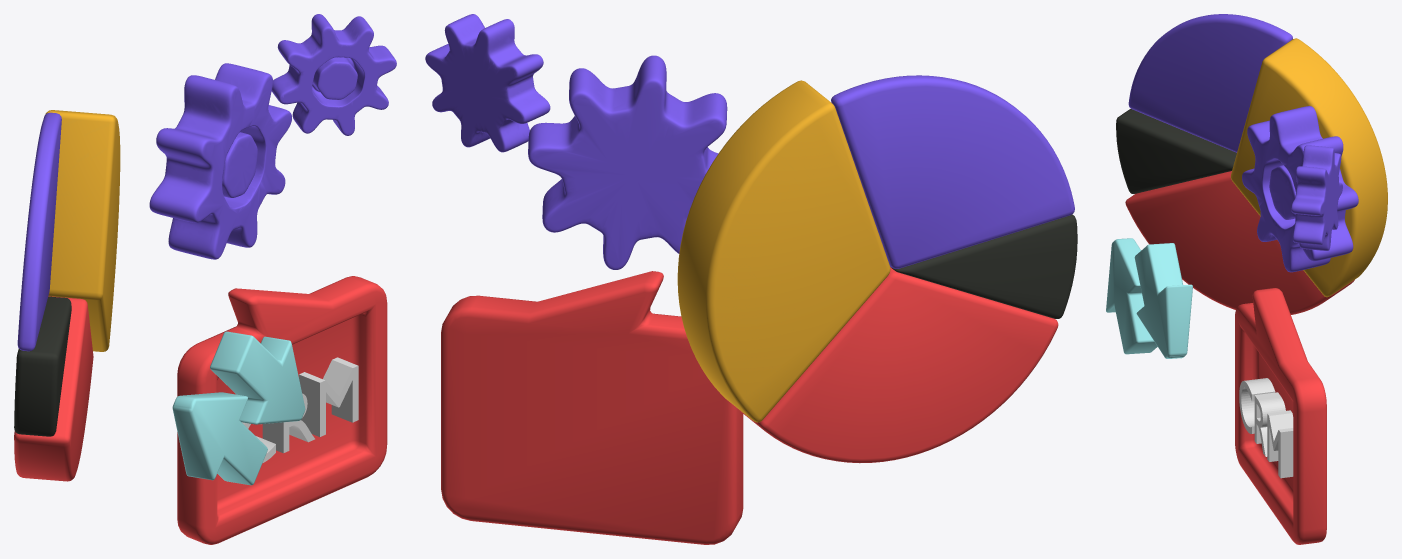
File: crm.glb
The picture shows the model from 3 angles, left to right: view 1: azimuth 30°, elevation 25°; view 2: azimuth 150°, elevation 25°; view 3: azimuth 270°, elevation 25°; orthographic projection. The views are drawn at different scales.
Parts seen in each view (by area): view 1: Circle.018, Text.015; view 2: Circle.018; view 3: Circle.018, Text.015.
Boxes of the visible parts, x1=… form: Circle.018: x1=14, y1=14, x2=396, y2=544; Text.015: x1=242, y1=357, x2=358, y2=462; Circle.018: x1=425, y1=14, x2=1077, y2=544; Circle.018: x1=1106, y1=14, x2=1387, y2=544; Text.015: x1=1239, y1=378, x2=1293, y2=478.
Bounding box in the file's own units: 1.68 × 1.52 × 1.01.
1 material, 1 textured.
